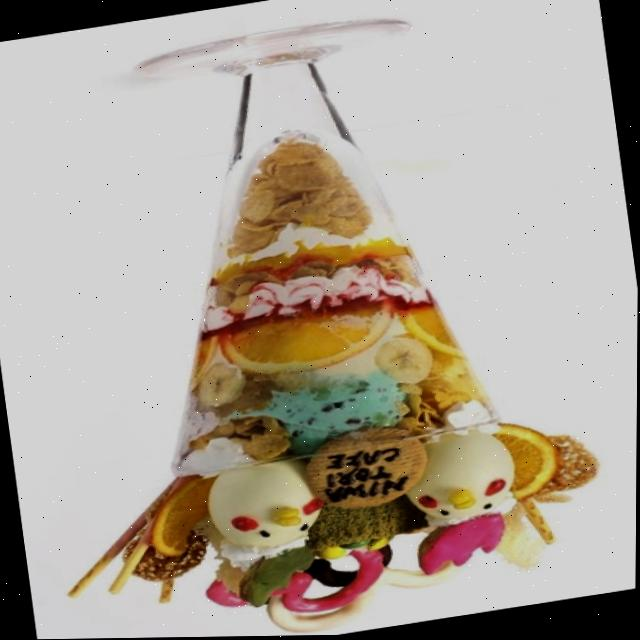蛋糕甜品: (23, 0, 630, 640)
